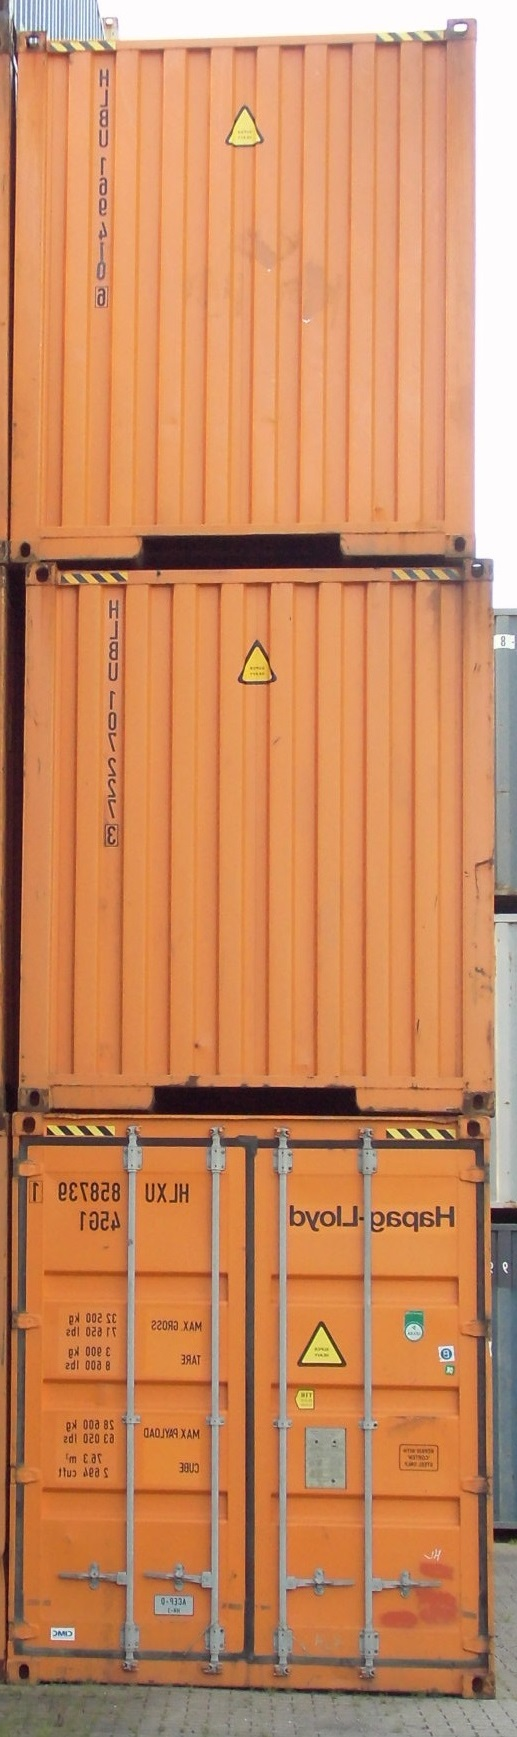container_door: (9, 1104, 496, 1696)
container_no_door: (11, 25, 480, 567), (20, 567, 489, 1109)
